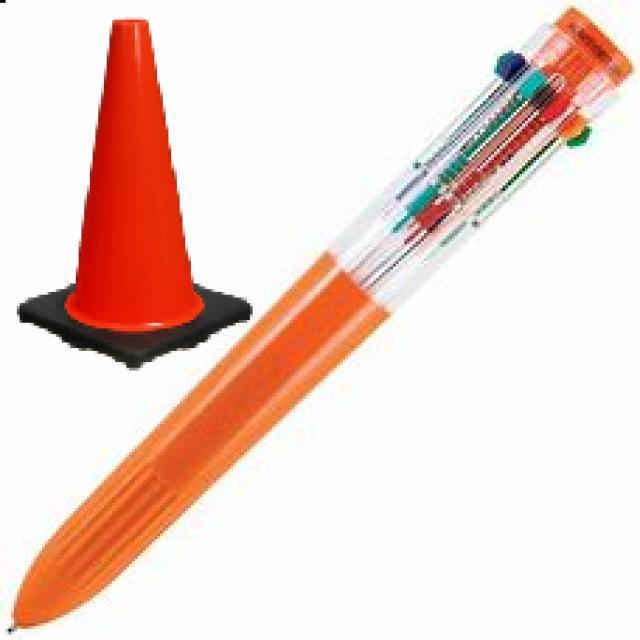traffic cone: (9, 8, 260, 381)
